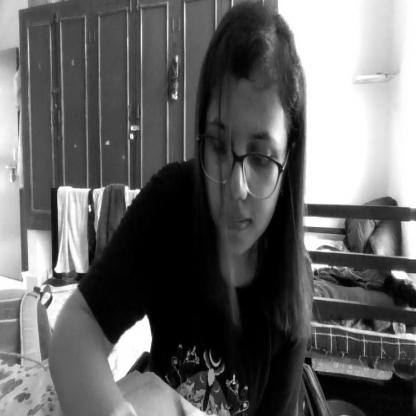Normal: (209, 9, 308, 266)
